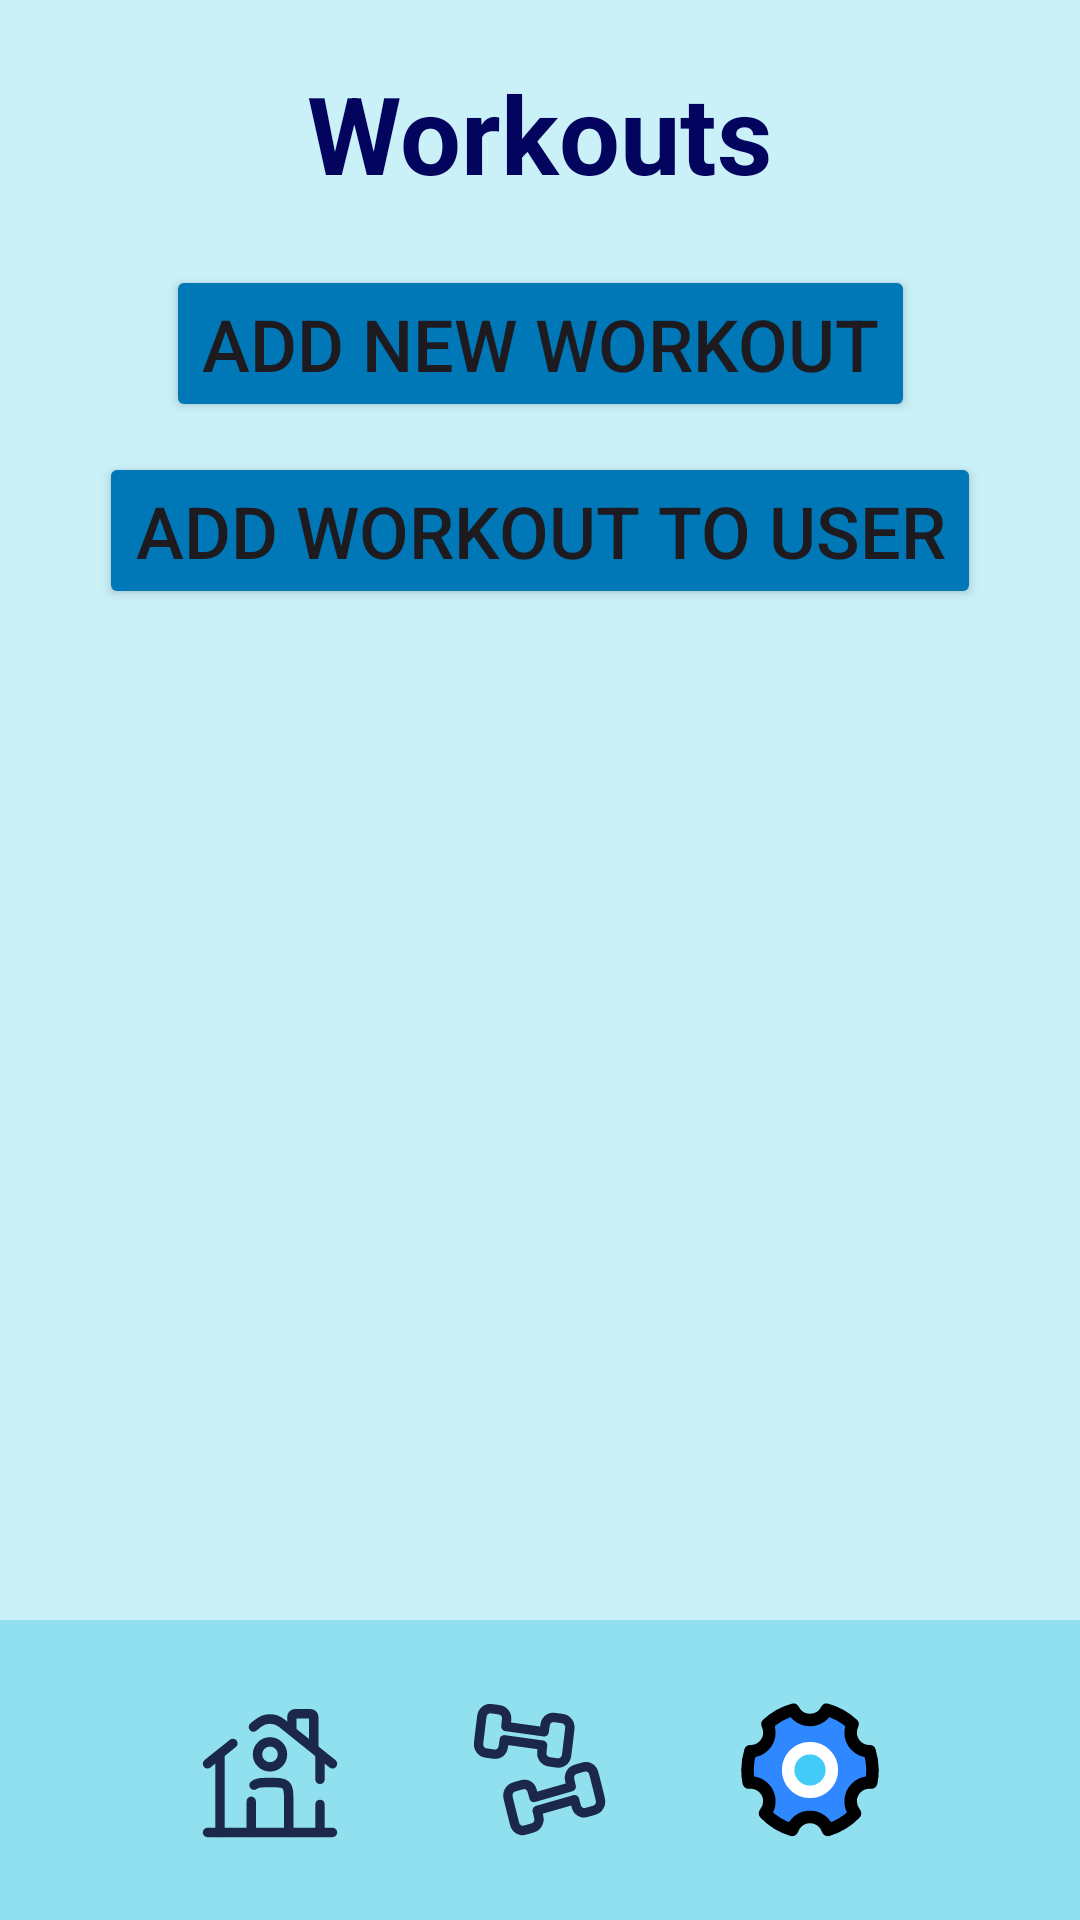

Screen size 1080w x 1920h. Icon name, then its center in pixels as (x=x, y=y):
dumbbells: (x=540, y=1770)
home: (x=270, y=1773)
setting: (x=810, y=1770)
